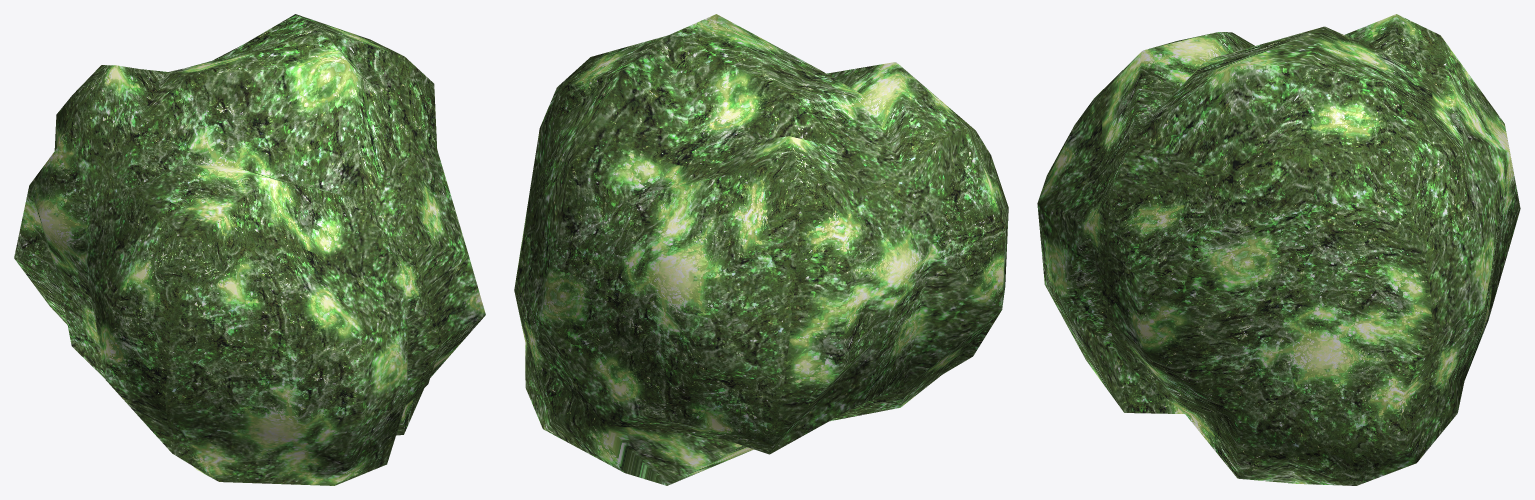
The model's file is asteroid_acid_small_s02_l1.fbx.
The picture shows the model from 3 angles, left to right: view 1: azimuth 30°, elevation 25°; view 2: azimuth 150°, elevation 25°; view 3: azimuth 270°, elevation 25°; orthographic projection. The views are drawn at different scales.
Parts seen in each view (by area): view 1: mesh_node; view 2: mesh_node; view 3: mesh_node.
Part boxes in pixels (bbox=[...]): mesh_node: bbox=[14, 14, 485, 485]; mesh_node: bbox=[514, 14, 1008, 485]; mesh_node: bbox=[1037, 14, 1520, 485].
Size of the model in its own units: 23.75 by 24.26 by 25.97.
